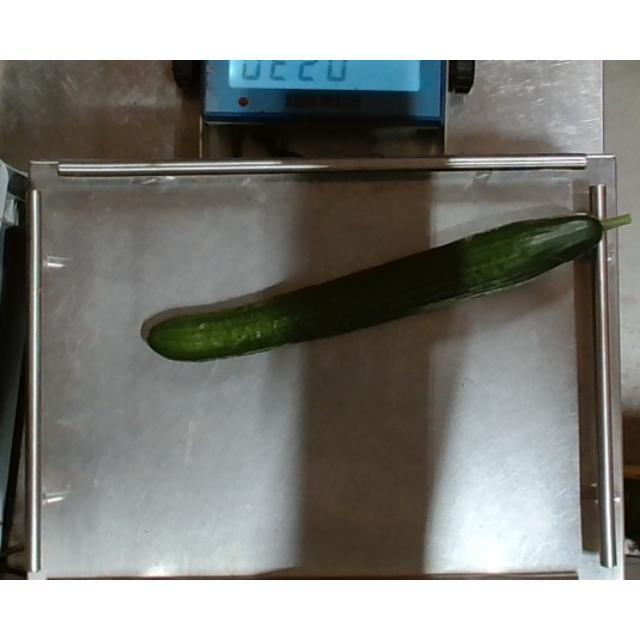cucumber: (146, 212, 640, 364)
